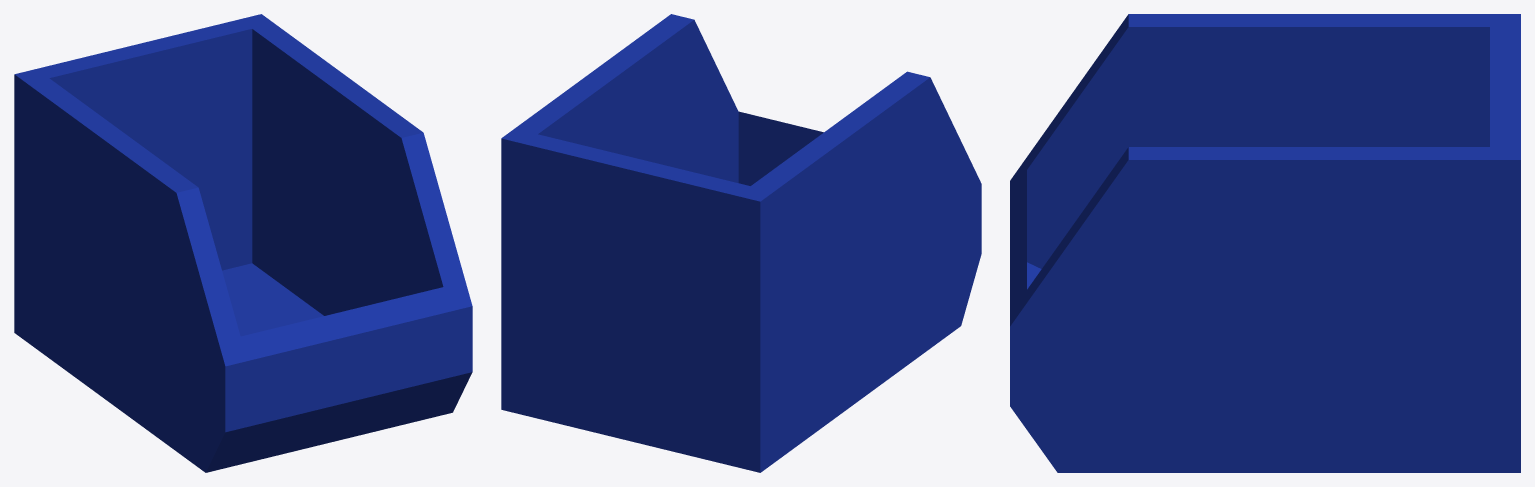
File: Case.fbx
The picture shows the model from 3 angles, left to right: view 1: azimuth 30°, elevation 25°; view 2: azimuth 150°, elevation 25°; view 3: azimuth 270°, elevation 25°; orthographic projection. The views are drawn at different scales.
Parts seen in each view (by area): view 1: Case; view 2: Case; view 3: Case.
Boxes of the visible parts, box(x1,y1,x2,y2) form: Case: box(14, 14, 472, 472); Case: box(501, 14, 981, 472); Case: box(1010, 14, 1520, 472).
Size of the model in its own units: 20.04 by 20.04 by 29.64.
